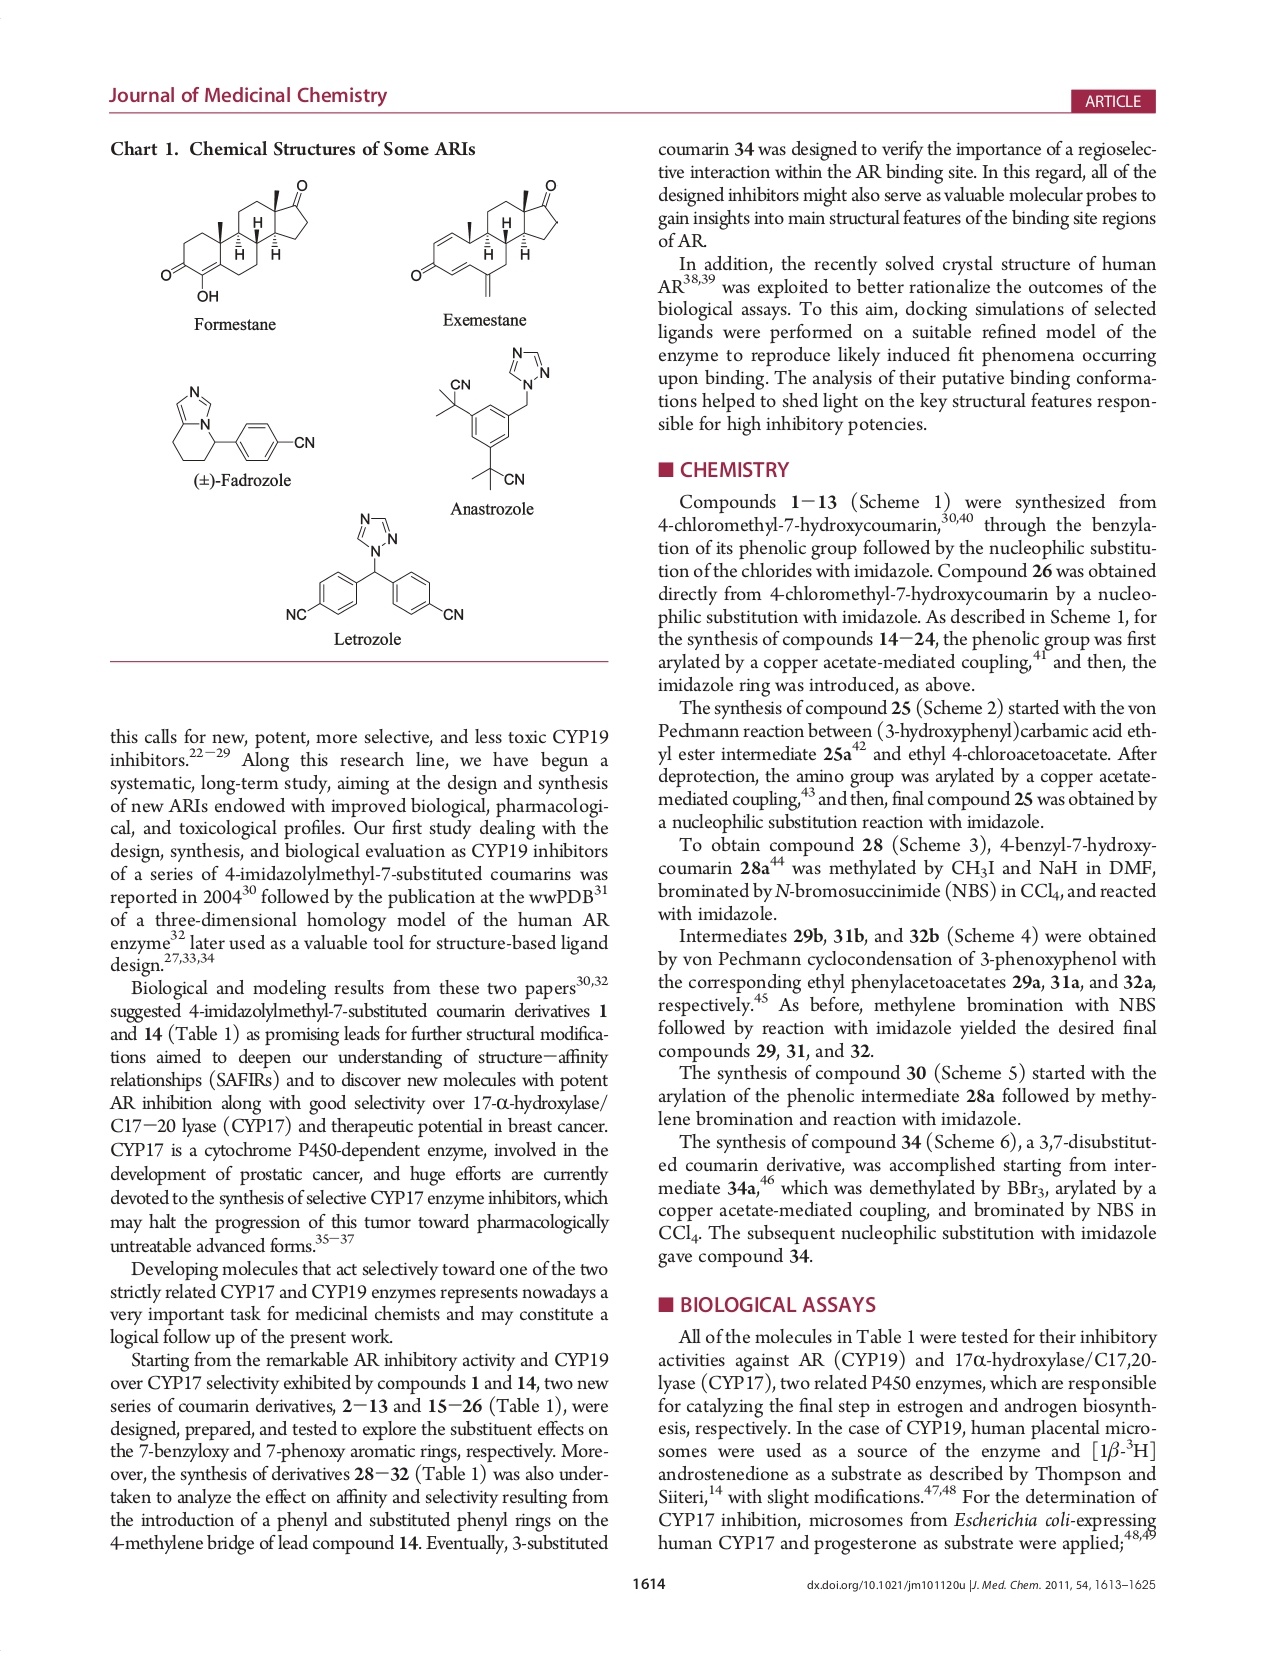exist_molecular: (283, 509, 469, 626), (157, 174, 313, 305), (404, 176, 563, 303), (430, 342, 552, 492), (170, 380, 322, 467)
